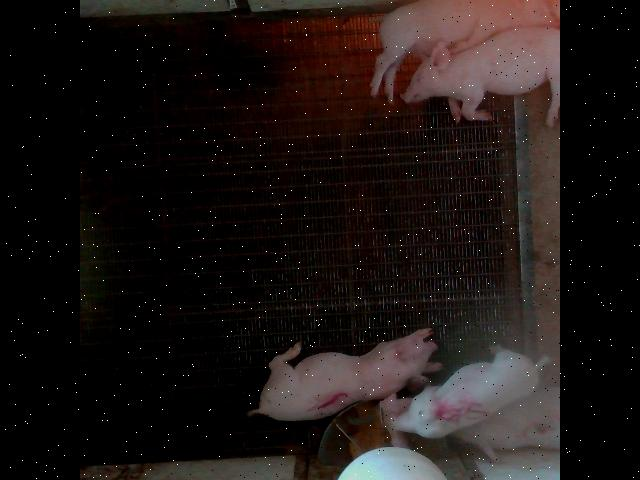pig-1: (248, 328, 439, 420)
pig-3: (454, 386, 558, 460)
pig-5: (381, 349, 548, 446)
